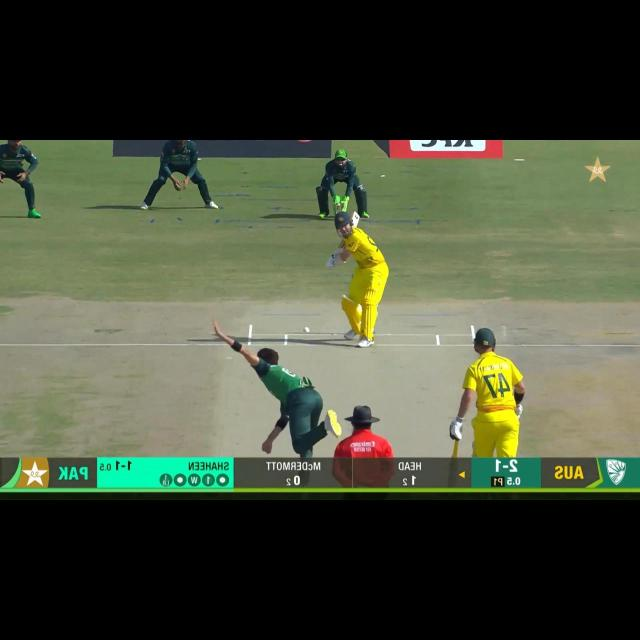bat: (450, 437, 464, 461), (348, 207, 362, 231), (336, 240, 348, 252)
toe: (352, 210, 360, 228)
